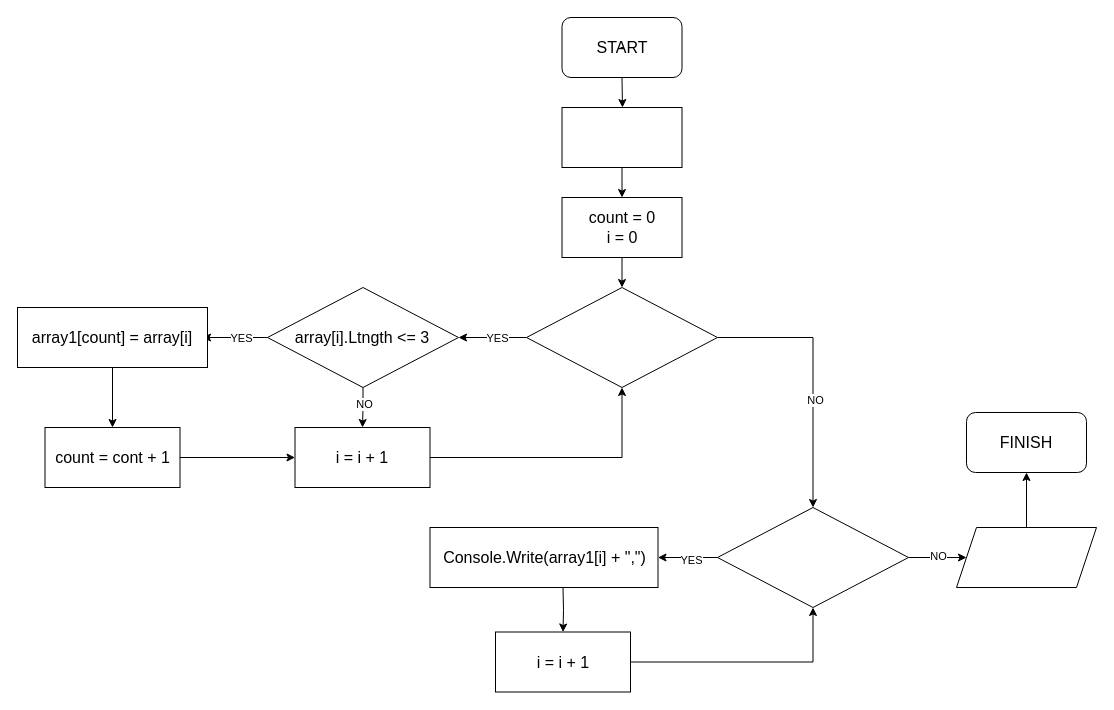
Some shapes in this 1114 by 710 pixel diagram are drawn without their labels. Each missing label, with the centre of its shape:
array1[ ]: (x=1026, y=557)
array[ ] array1[ ]: (x=621, y=137)
i < array.Length: (x=622, y=337)
i < array1.Length: (x=812, y=557)
